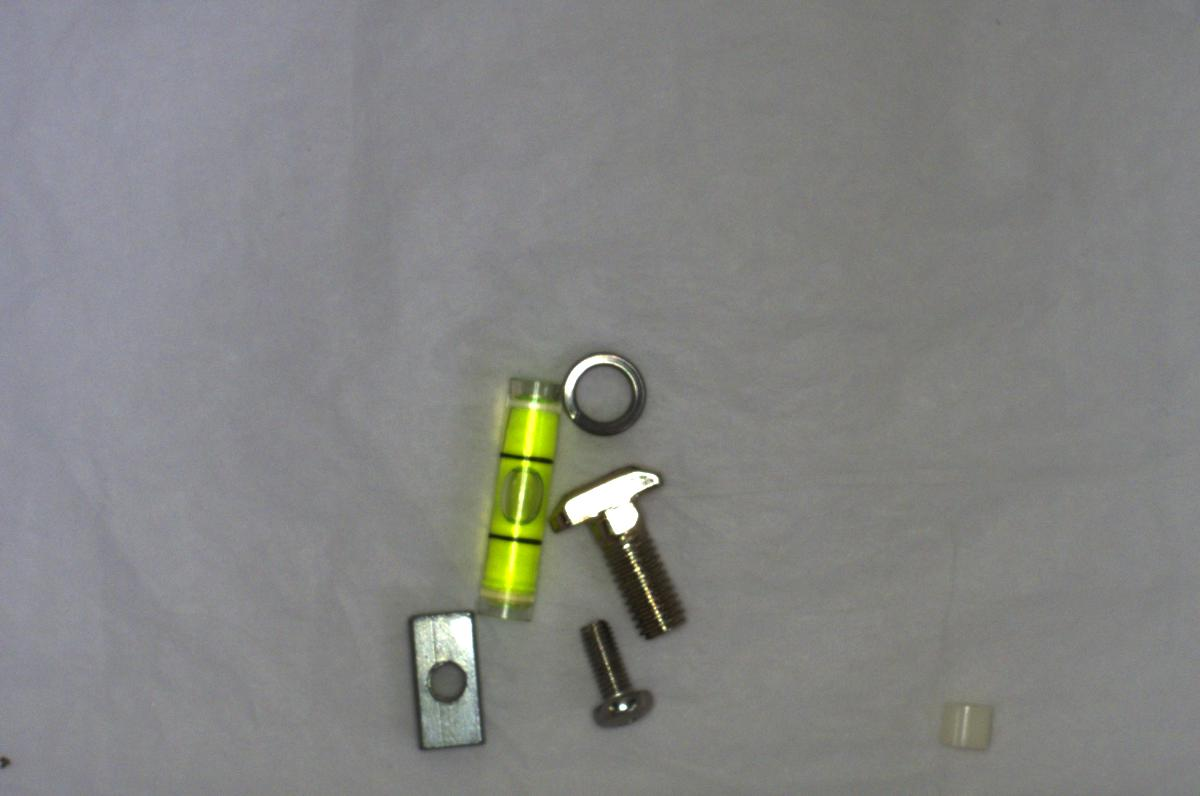Horizontal bubble: (470, 367, 561, 625)
Plastic cushion pillar: (926, 692, 1006, 760)
Rectangular nut: (395, 590, 497, 762)
Round head screw: (570, 609, 661, 735)
Spring washer: (558, 339, 648, 441)
T-shaped screw: (546, 460, 690, 635)
